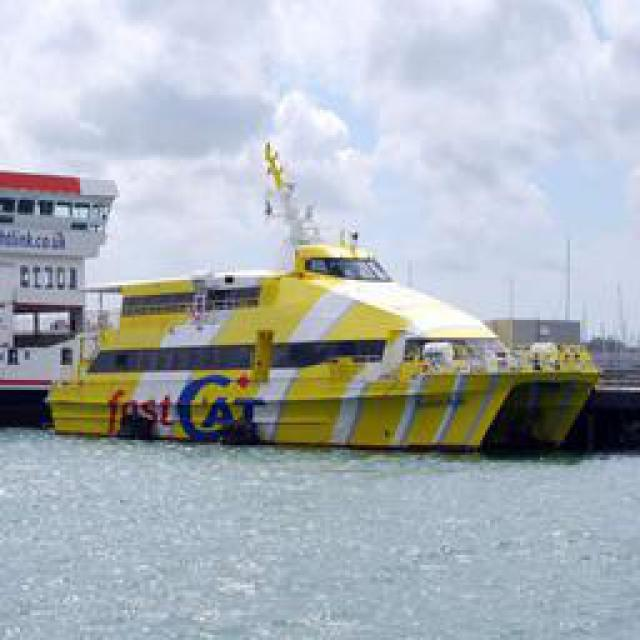Ship: (25, 231, 600, 454)
